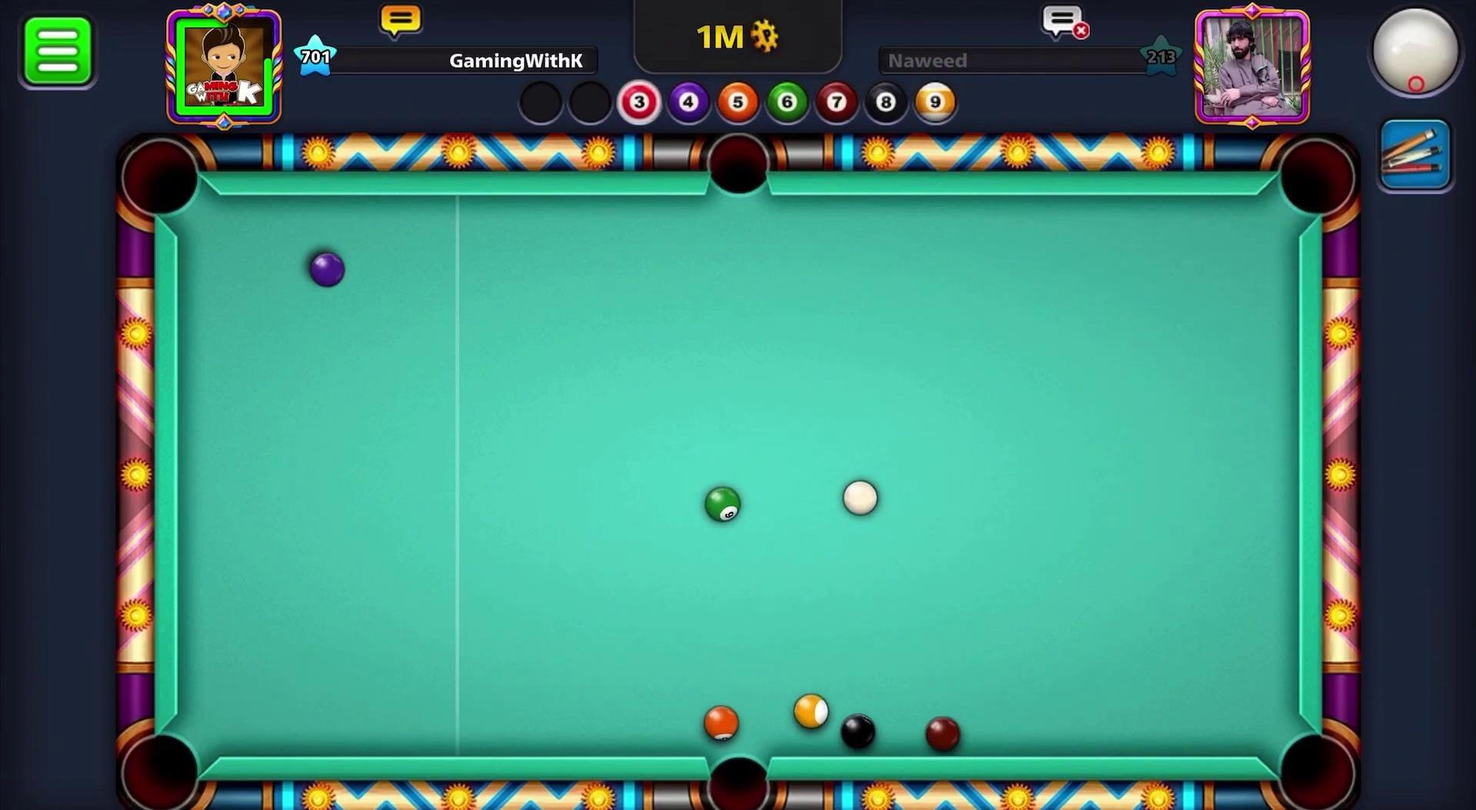Ball: (688, 702, 741, 743), (699, 482, 746, 527), (305, 248, 351, 293), (921, 712, 968, 753), (791, 692, 833, 731), (835, 712, 877, 751)
Hole: (110, 124, 222, 236), (1267, 132, 1365, 231), (1263, 715, 1365, 809), (110, 717, 213, 809), (686, 738, 783, 809), (703, 124, 774, 203)
Play_Area: (175, 194, 1298, 758)
Spin: (1349, 0, 1475, 118)
White: (837, 475, 885, 517)
